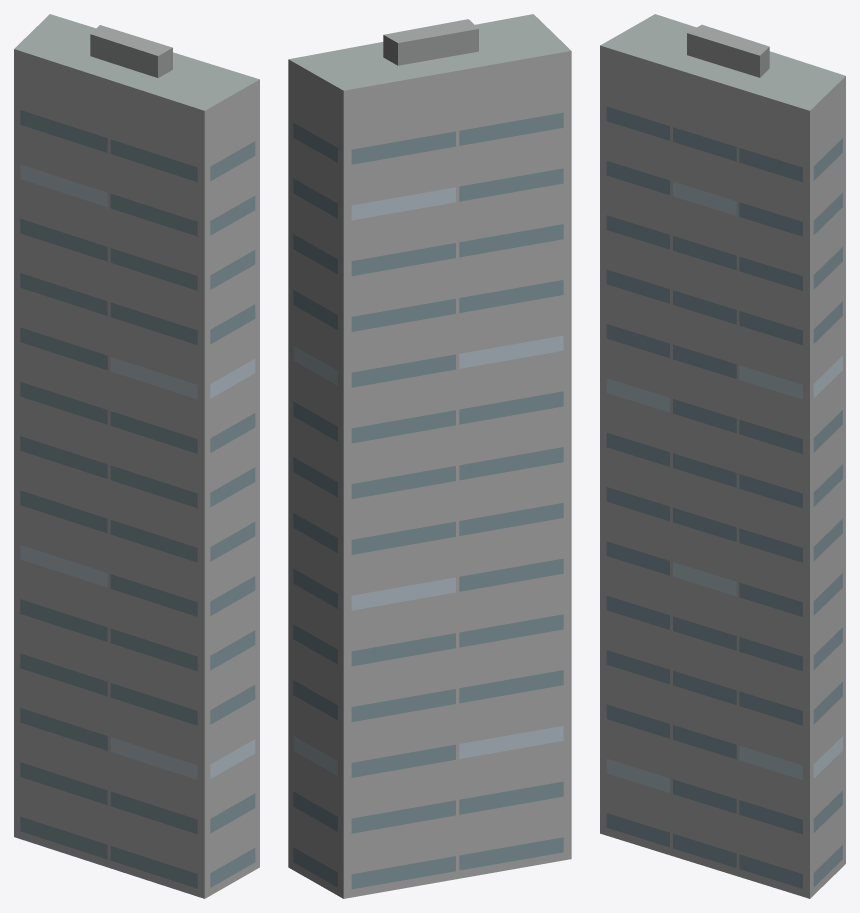
File: fallback-jamsil-ricenz-203.glb
The picture shows the model from 3 angles, left to right: view 1: azimuth 90°, elevation 25°; view 2: azimuth 150°, elevation 25°; view 3: azimuth 270°, elevation 25°; orthographic projection. The views are drawn at different scales.
Visible parts, largest first — view 1: fallback-jamsil-ricenz-203; view 2: fallback-jamsil-ricenz-203; view 3: fallback-jamsil-ricenz-203.
Part boxes in pixels (left/top/right/bottom): fallback-jamsil-ricenz-203: left=14, top=14, right=259, bottom=898; fallback-jamsil-ricenz-203: left=288, top=14, right=571, bottom=898; fallback-jamsil-ricenz-203: left=600, top=14, right=845, bottom=898.
Bounding box in the file's own units: 22.58 × 88 × 24.21.
